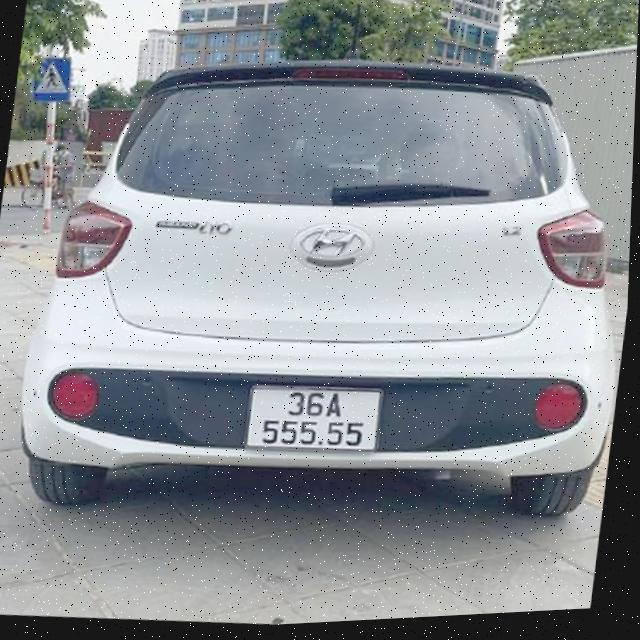car: (0, 12, 638, 570)
plate: (234, 370, 392, 466)
